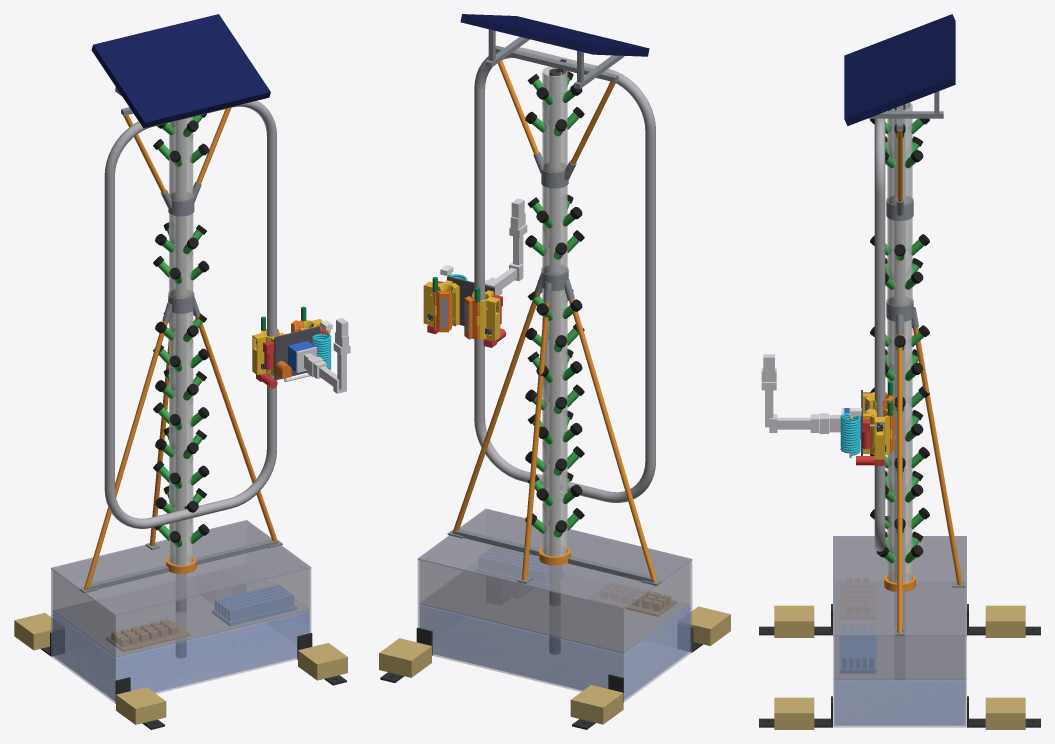
File: complete-unit-v2.glb
The picture shows the model from 3 angles, left to right: view 1: azimuth 30°, elevation 25°; view 2: azimuth 150°, elevation 25°; view 3: azimuth 270°, elevation 25°; orthographic projection. The views are drawn at different scales.
Visible parts, largest first — view 1: tank, solar_panel_30W, water_volume, lid, track_loop, growing_pipe, shelf, spine_tube, sandbags, lower_aframe_and_back_strut_16mm, pod_caps, pods (+9 smaller); view 2: tank, water_volume, lid, track_loop, growing_pipe, shelf, spine_tube, lower_aframe_and_back_strut_16mm, sandbags, pod_caps, pods, solar_panel_30W (+12 smaller); view 3: tank, lid, growing_pipe, solar_panel_30W, water_volume, sandbags, track_loop, shelf, lower_aframe_and_back_strut_16mm, pods, pod_caps, spine_tube (+8 smaller).
Part boxes in pixels (left/top/right/bottom): tank: left=51, top=527, right=311, bottom=703; solar_panel_30W: left=91, top=14, right=270, bottom=128; water_volume: left=53, top=611, right=309, bottom=700; lid: left=51, top=520, right=311, bottom=615; track_loop: left=104, top=100, right=276, bottom=528; growing_pipe: left=169, top=117, right=193, bottom=565; shelf: left=53, top=579, right=309, bottom=657; spine_tube: left=176, top=119, right=186, bottom=657; sandbags: left=14, top=613, right=347, bottom=724; lower_aframe_and_back_strut_16mm: left=84, top=314, right=278, bottom=590; pod_caps: left=153, top=113, right=209, bottom=542; pods: left=158, top=115, right=202, bottom=547; tank: left=417, top=544, right=692, bottom=702; water_volume: left=420, top=605, right=689, bottom=699; lid: left=417, top=508, right=692, bottom=609; track_loop: left=474, top=47, right=655, bottom=502; growing_pipe: left=542, top=66, right=567, bottom=556; shelf: left=420, top=571, right=689, bottom=653; spine_tube: left=549, top=68, right=560, bottom=654; lower_aframe_and_back_strut_16mm: left=452, top=292, right=657, bottom=582; sandbags: left=379, top=606, right=730, bottom=724; pod_caps: left=525, top=71, right=584, bottom=532; pods: left=532, top=77, right=579, bottom=537; solar_panel_30W: left=460, top=14, right=649, bottom=56; tank: left=833, top=538, right=966, bottom=727; lid: left=833, top=536, right=966, bottom=636; growing_pipe: left=887, top=102, right=912, bottom=583; solar_panel_30W: left=844, top=14, right=955, bottom=125; water_volume: left=834, top=680, right=965, bottom=725; sandbags: left=774, top=605, right=1025, bottom=729; track_loop: left=874, top=118, right=885, bottom=551; shelf: left=834, top=636, right=965, bottom=679; lower_aframe_and_back_strut_16mm: left=897, top=327, right=962, bottom=633; pods: left=884, top=118, right=924, bottom=563; pod_caps: left=870, top=118, right=929, bottom=557; spine_tube: left=894, top=104, right=905, bottom=626.
Size of the model in its own units: 851 by 2080 by 840.
